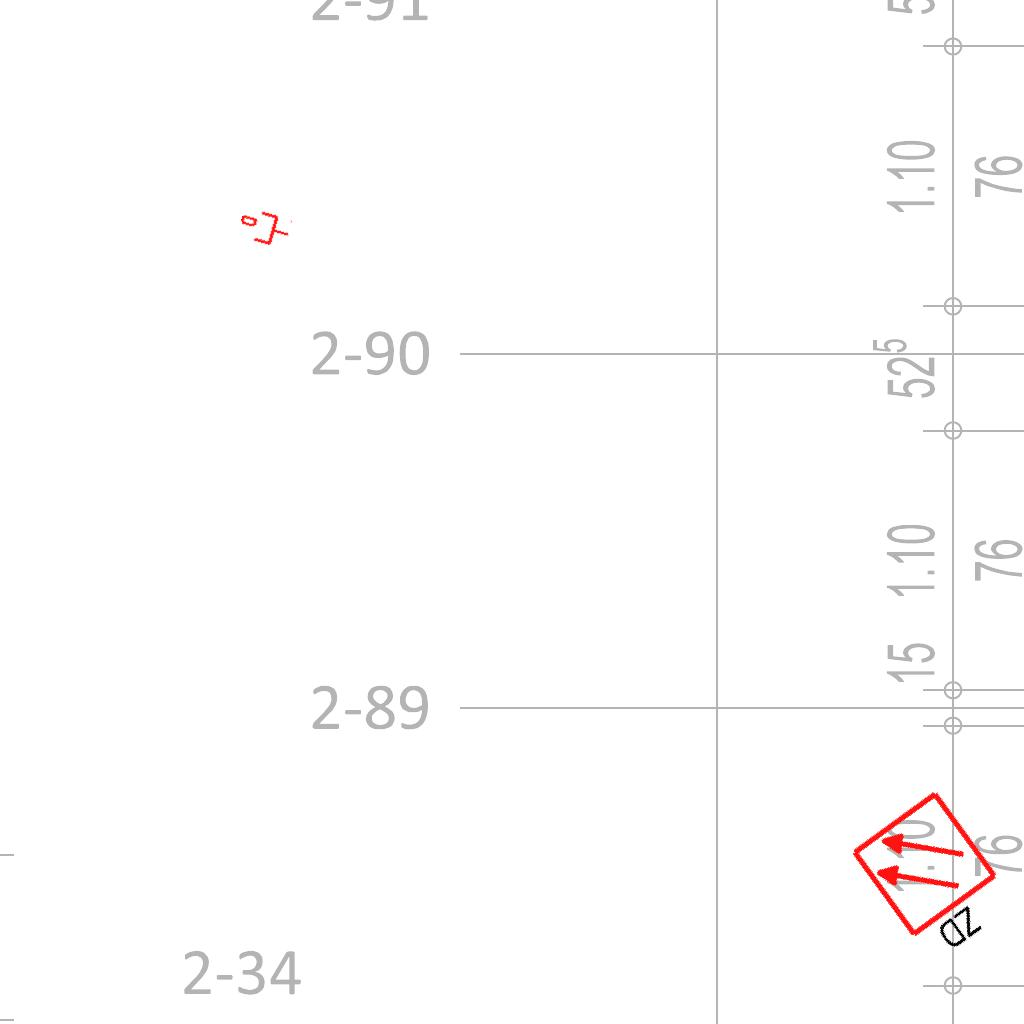Datenanschluss_einfach: (236, 204, 294, 252)
ZD_Melder_in_Zwischendecke_mit_Revisionsoeffnung_mind_40_x_40_cm: (847, 784, 1024, 973)
